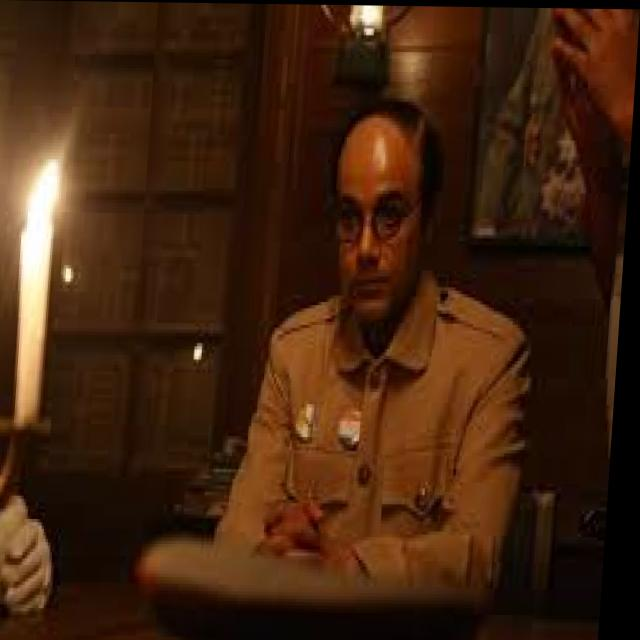fire: (20, 156, 79, 239)
